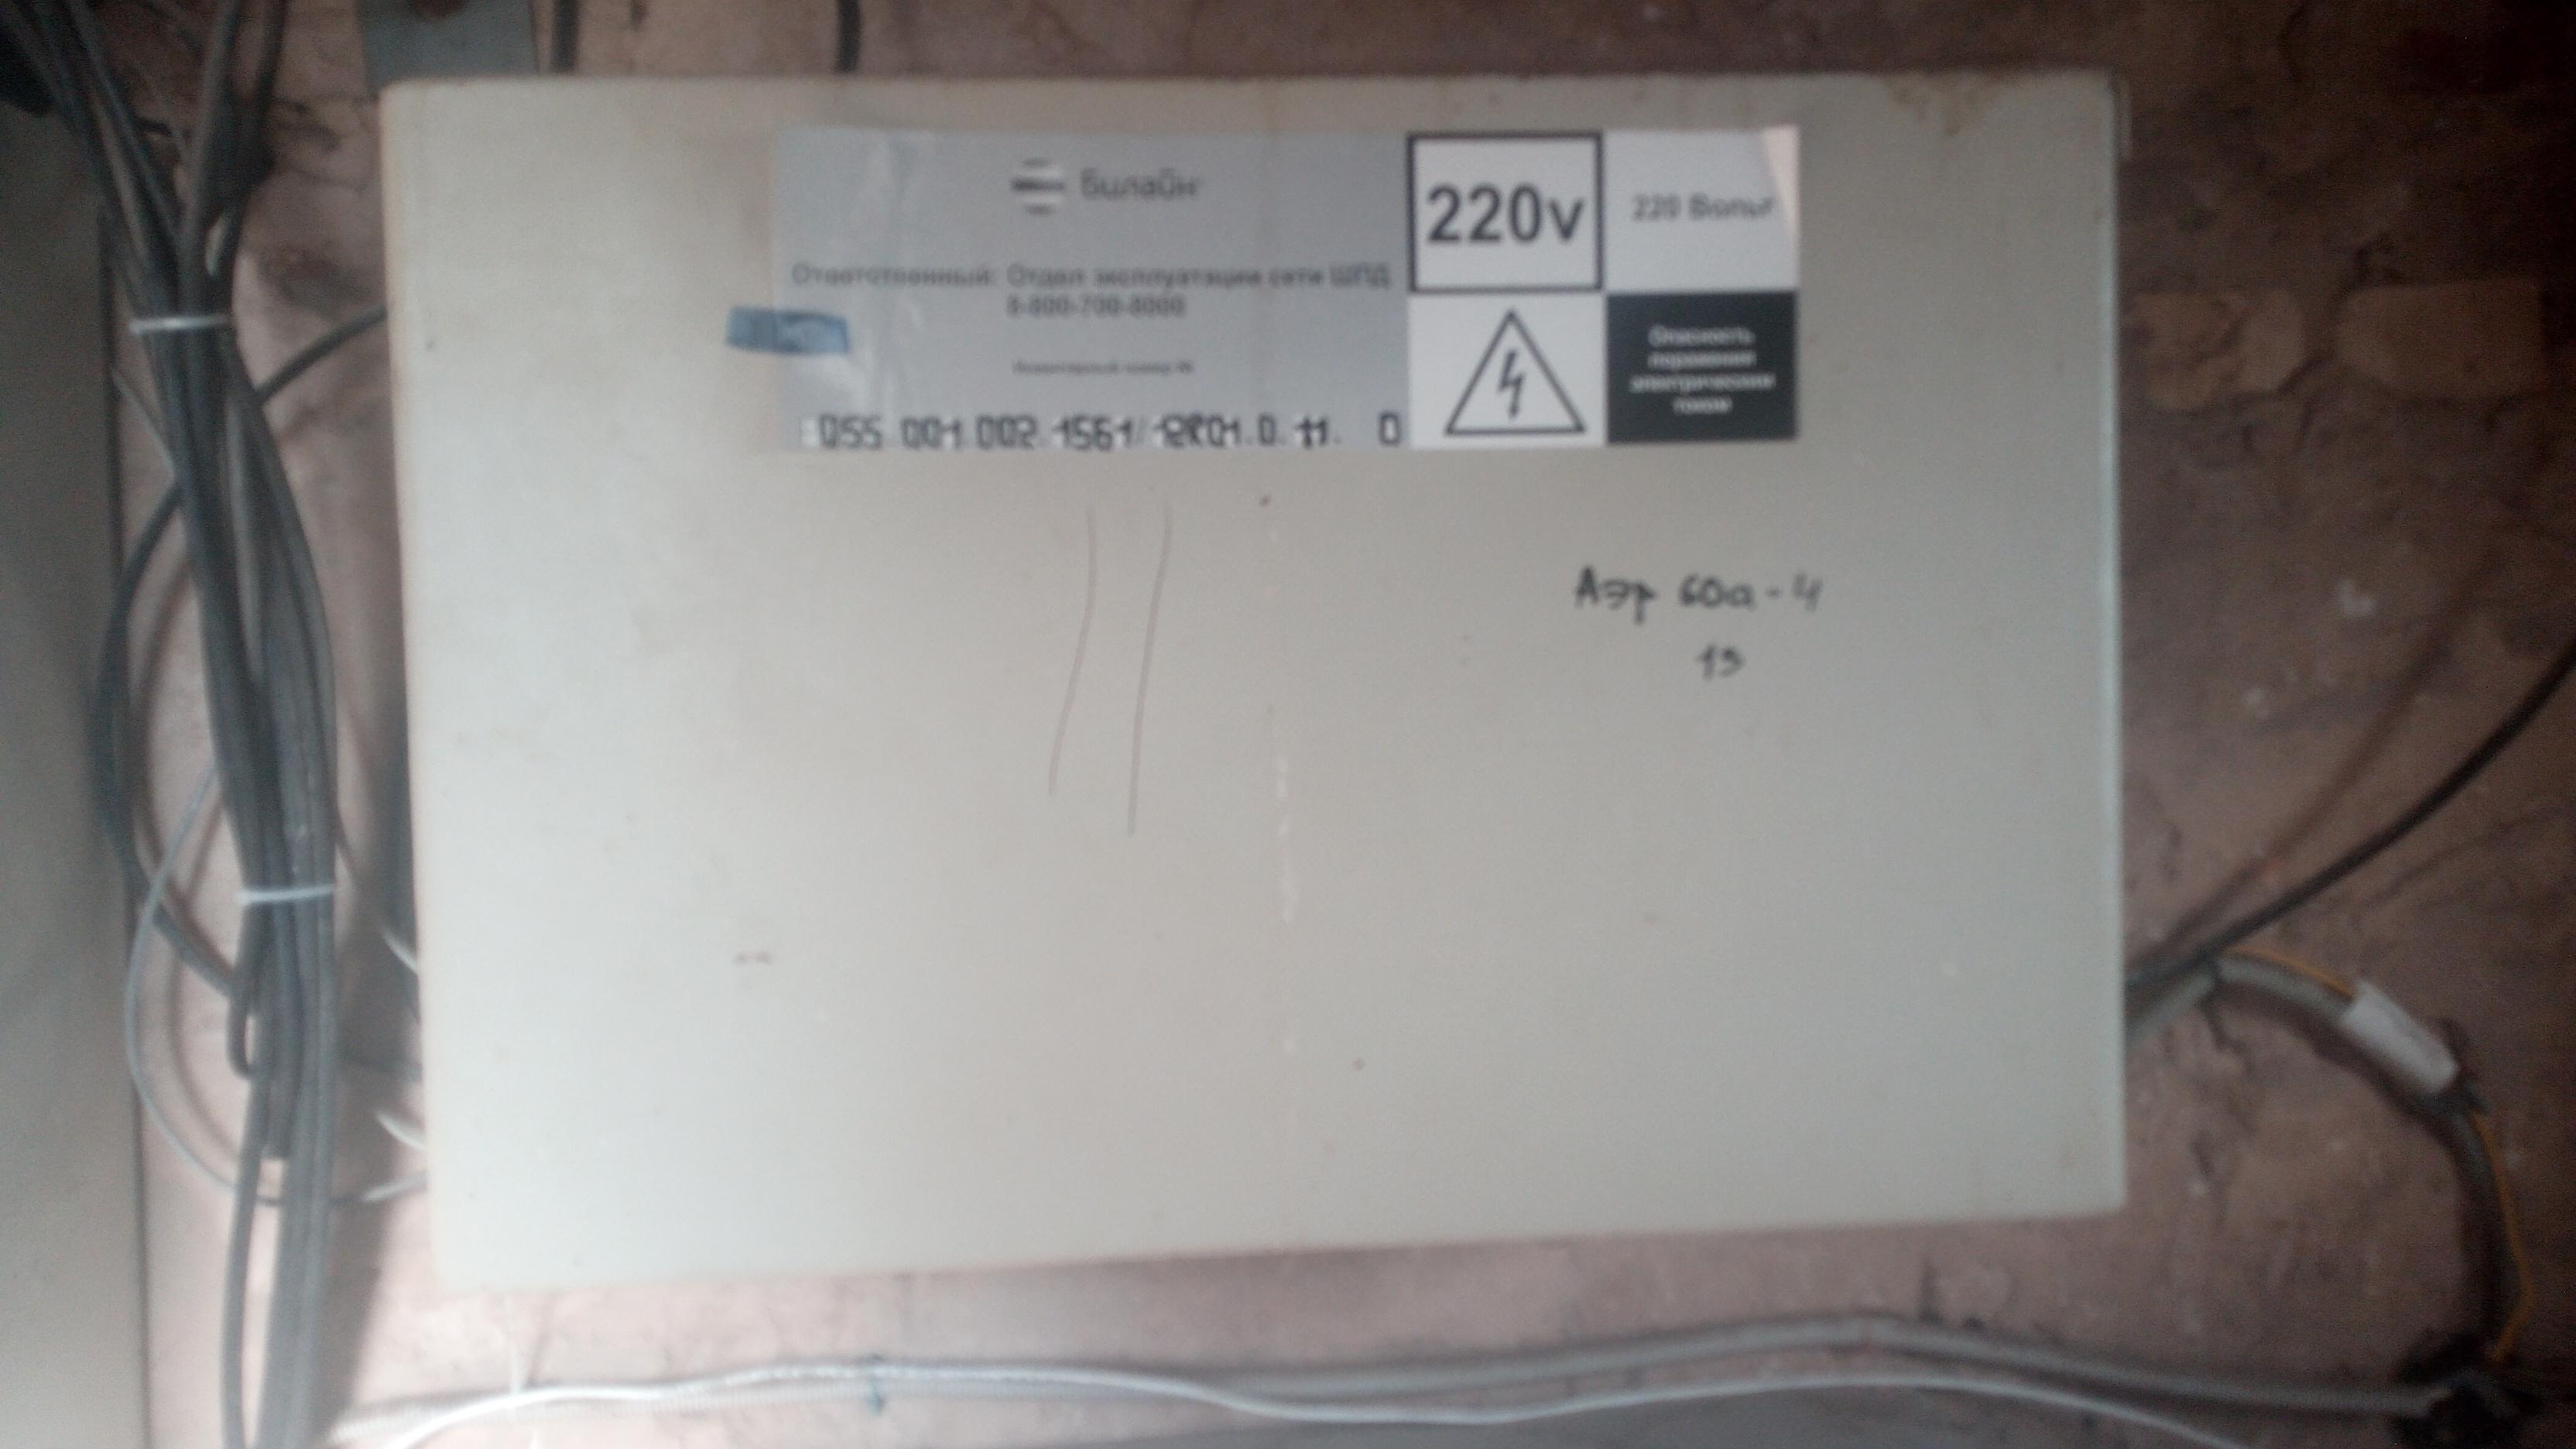sv-5: (349, 46, 2158, 1311)
